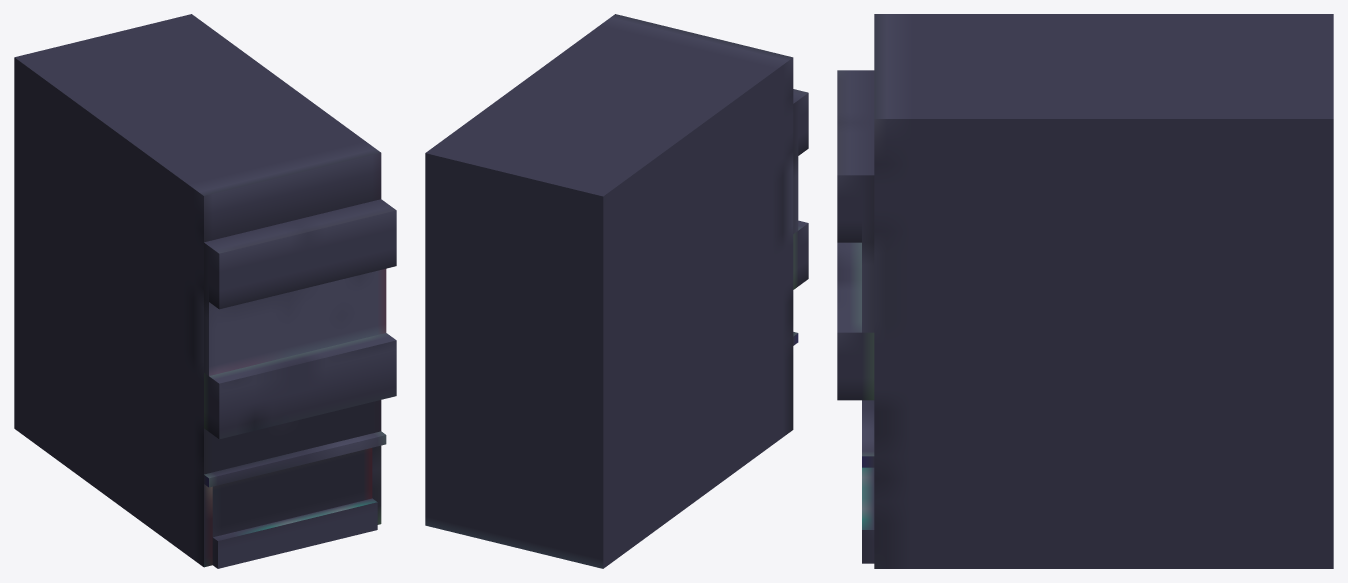
Rendered from TrimPiece_E_00.fbx.
The picture shows the model from 3 angles, left to right: view 1: azimuth 30°, elevation 25°; view 2: azimuth 150°, elevation 25°; view 3: azimuth 270°, elevation 25°; orthographic projection. The views are drawn at different scales.
Visible parts, largest first — view 1: TrimPiece_E_00; view 2: TrimPiece_E_00; view 3: TrimPiece_E_00.
Boxes of the visible parts, left/top/right/bottom form: TrimPiece_E_00: left=14, top=14, right=396, bottom=568; TrimPiece_E_00: left=425, top=14, right=808, bottom=568; TrimPiece_E_00: left=837, top=14, right=1333, bottom=568.
Bounding box in the file's own units: 100 × 200 × 200.
